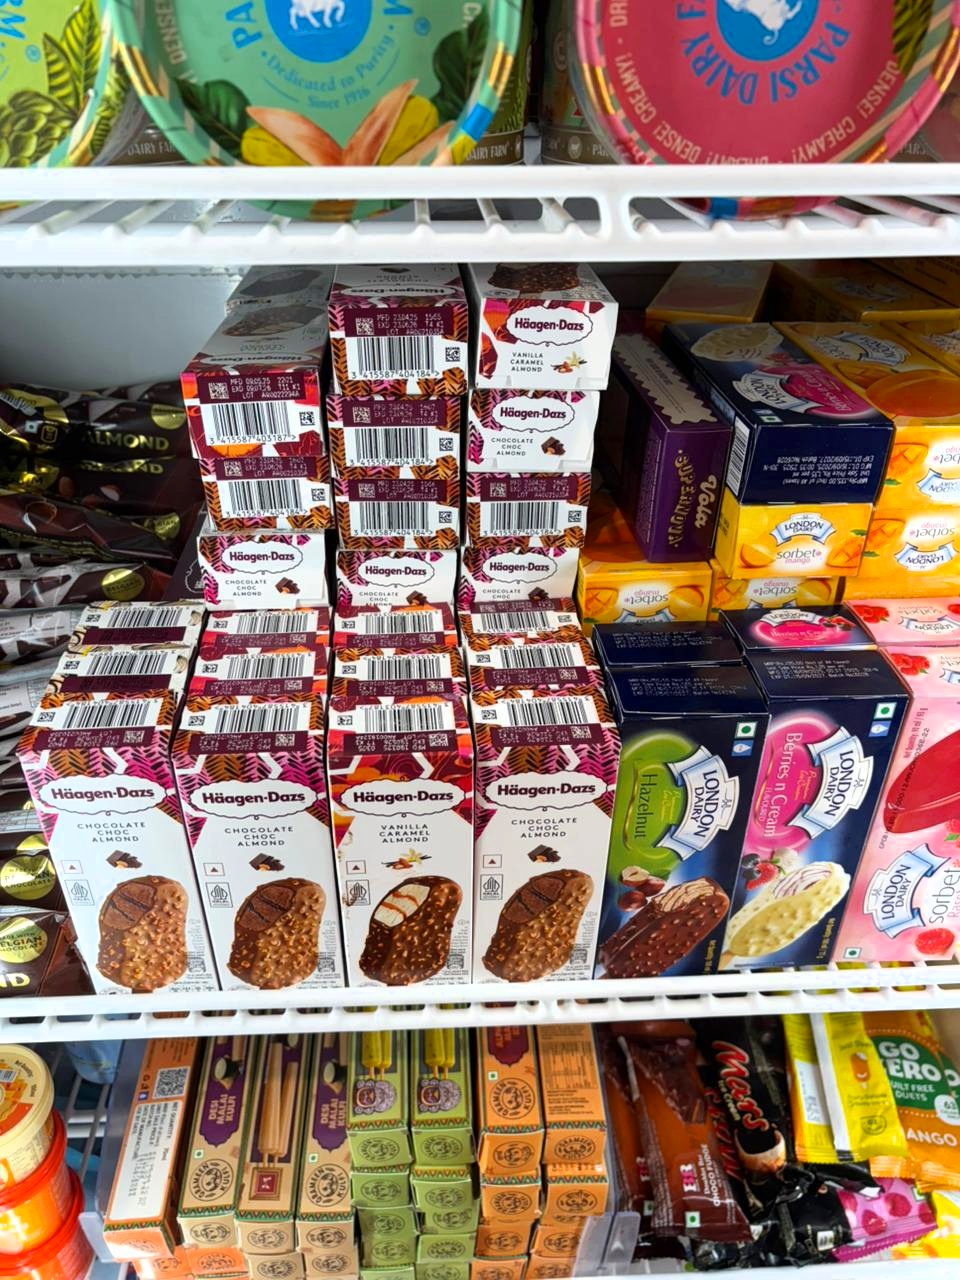Haagen-Dazs IceCream Bars: (22, 691, 203, 1016), (188, 692, 328, 1025), (320, 695, 475, 989), (472, 694, 608, 997), (181, 313, 335, 473), (472, 260, 612, 395), (334, 263, 468, 382), (320, 390, 465, 482), (461, 389, 611, 477), (200, 530, 333, 615), (332, 475, 463, 549), (448, 535, 583, 605), (455, 478, 597, 542), (202, 465, 331, 535), (179, 643, 333, 700), (326, 541, 455, 609), (44, 641, 188, 692), (323, 600, 464, 651), (194, 600, 333, 650), (463, 646, 606, 694), (322, 648, 467, 694), (78, 599, 202, 646), (450, 603, 596, 642)
